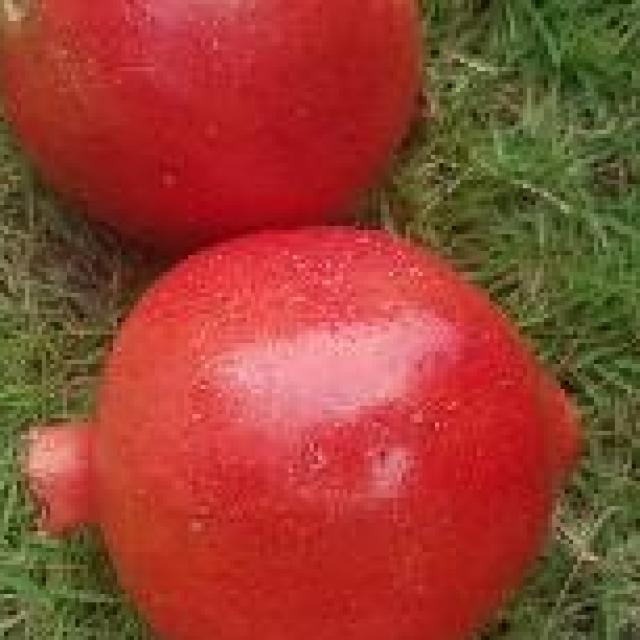Good_Pomegranate 50-60-days: (0, 0, 594, 640)
